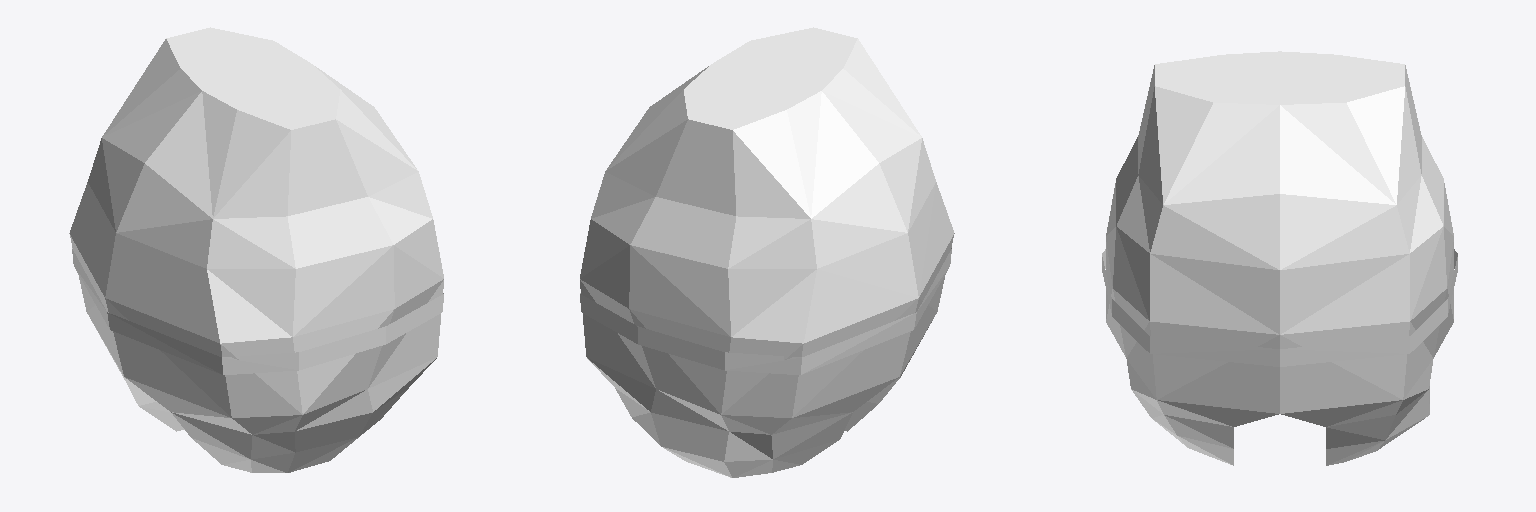
Rendered from ropaAlien_2.obj.
3 views of the same model, side by side, from view 1: azimuth 30°, elevation 25°; view 2: azimuth 150°, elevation 25°; view 3: azimuth 270°, elevation 25° (orthographic).
Visible parts, largest first — view 1: alienTrajeEspacial, alienCinturon; view 2: alienTrajeEspacial, alienCinturon; view 3: alienTrajeEspacial, alienCinturon.
Boxes of the visible parts, <box> form: alienTrajeEspacial: <box>69,27,443,472</box>; alienCinturon: <box>72,248,443,374</box>; alienTrajeEspacial: <box>580,27,954,477</box>; alienCinturon: <box>580,248,951,374</box>; alienTrajeEspacial: <box>1106,51,1453,465</box>; alienCinturon: <box>1102,249,1457,366</box>.
Bounding box in the file's own units: 1.68 × 1.89 × 1.72.